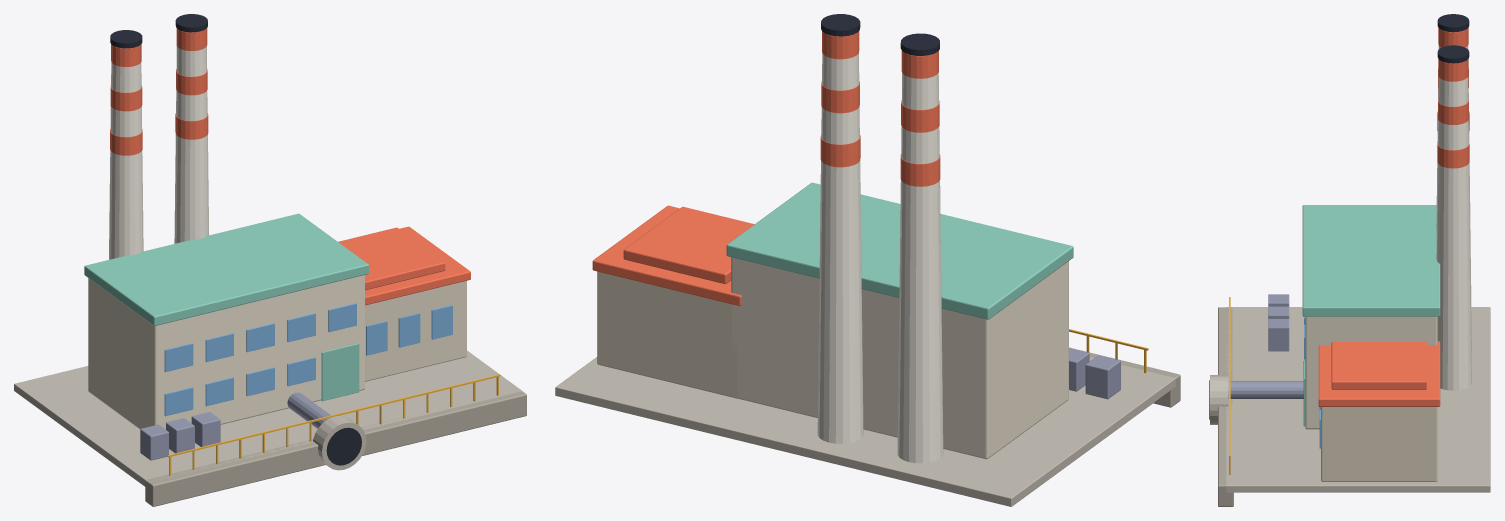
File: power_plant.glb
The picture shows the model from 3 angles, left to right: view 1: azimuth 30°, elevation 25°; view 2: azimuth 150°, elevation 25°; view 3: azimuth 270°, elevation 25°; orthographic projection. The views are drawn at different scales.
Visible parts, largest first — view 1: hall, pad, hallroof, seawall, turbine, stack1, stack0, turbroof2, turbroof, door, mouth, mouthin (+23 smaller); view 2: hall, pad, hallroof, stack0, stack1, turbine, turbroof2, turbroof, tx0, band10, band00, band11 (+7 smaller); view 3: pad, hallroof, stack1, turbine, hall, turbroof2, turbroof, seawall, pipeA, mouth, tx2, band10 (+6 smaller).
Part boxes in pixels (box(x1,y1,x2,y2)): hall: box(88, 275, 364, 429); pad: box(14, 350, 522, 488); hallroof: box(84, 213, 368, 325); seawall: box(145, 391, 526, 506); turbine: box(365, 280, 466, 381); stack1: box(174, 32, 208, 243); stack0: box(109, 48, 143, 259); turbroof2: box(338, 227, 445, 290); turbroof: box(365, 226, 470, 305); door: box(321, 343, 359, 401); mouth: box(313, 415, 366, 470); mouthin: box(326, 427, 361, 465); hall: box(731, 257, 1068, 459); pad: box(555, 357, 1175, 506); hallroof: box(726, 182, 1073, 319); stack0: box(897, 72, 943, 463); stack1: box(817, 36, 863, 443); turbine: box(597, 271, 738, 398); turbroof2: box(623, 206, 754, 283); turbroof: box(592, 205, 741, 306); tx0: box(1085, 355, 1120, 399); band10: box(820, 135, 860, 167); band00: box(900, 154, 940, 186); band11: box(821, 81, 859, 113); pad: box(1226, 307, 1490, 492); hallroof: box(1302, 205, 1440, 316); stack1: box(1436, 63, 1471, 390); turbine: box(1321, 407, 1437, 481); hall: box(1305, 316, 1437, 429); turbroof2: box(1331, 342, 1426, 389); turbroof: box(1318, 341, 1440, 406); seawall: box(1218, 307, 1233, 506); pipeA: box(1228, 381, 1303, 398); mouth: box(1210, 375, 1228, 424); tx2: box(1268, 319, 1289, 351); band10: box(1437, 142, 1469, 168).
Size of the model in its own units: 16 by 14.9 by 10.62.
